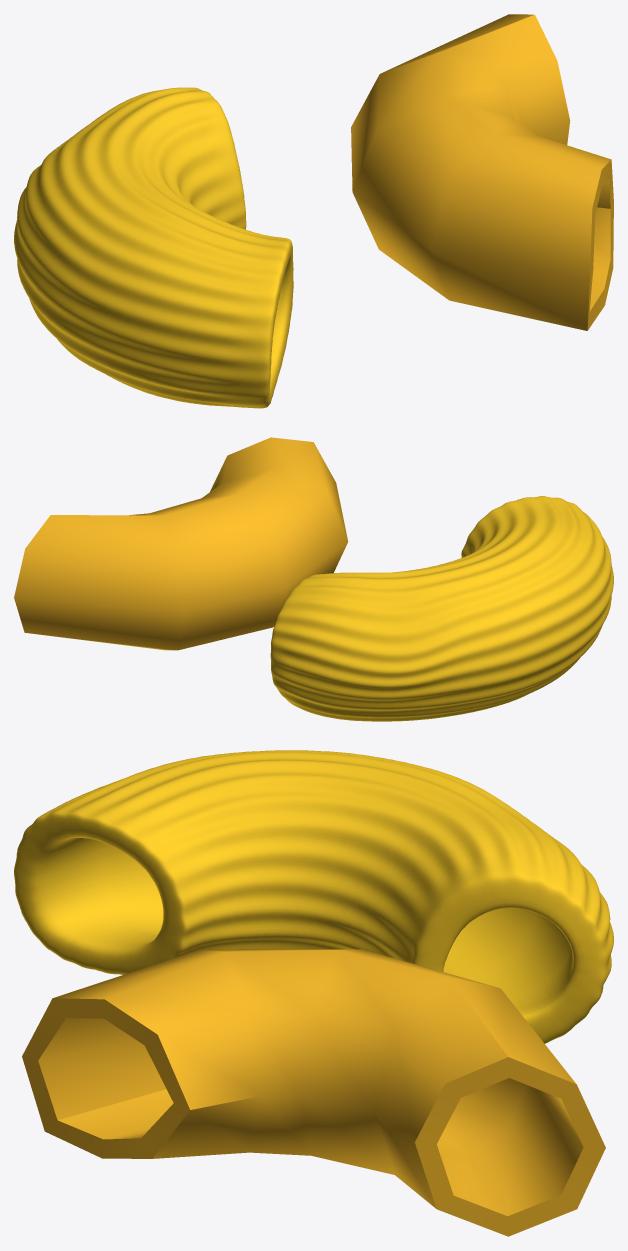
File: pasta.glb
3 renders of one model, top to bottom at view 1: azimuth 30°, elevation 25°; view 2: azimuth 150°, elevation 25°; view 3: azimuth 270°, elevation 25°, orthographic. The views are drawn at different scales.
Visible parts, largest first — view 1: macaroni_HP, macaroni_LP; view 2: macaroni_HP, macaroni_LP; view 3: macaroni_LP, macaroni_HP.
Boxes of the visible parts, box(x1,y1,x2,y2) form: macaroni_HP: box(14, 87, 293, 408); macaroni_LP: box(351, 14, 613, 330); macaroni_HP: box(270, 496, 613, 721); macaroni_LP: box(14, 437, 348, 650); macaroni_LP: box(22, 949, 605, 1236); macaroni_HP: box(14, 750, 613, 1043).
Size of the model in its own units: 0.0214 by 0.00611 by 0.0163.
